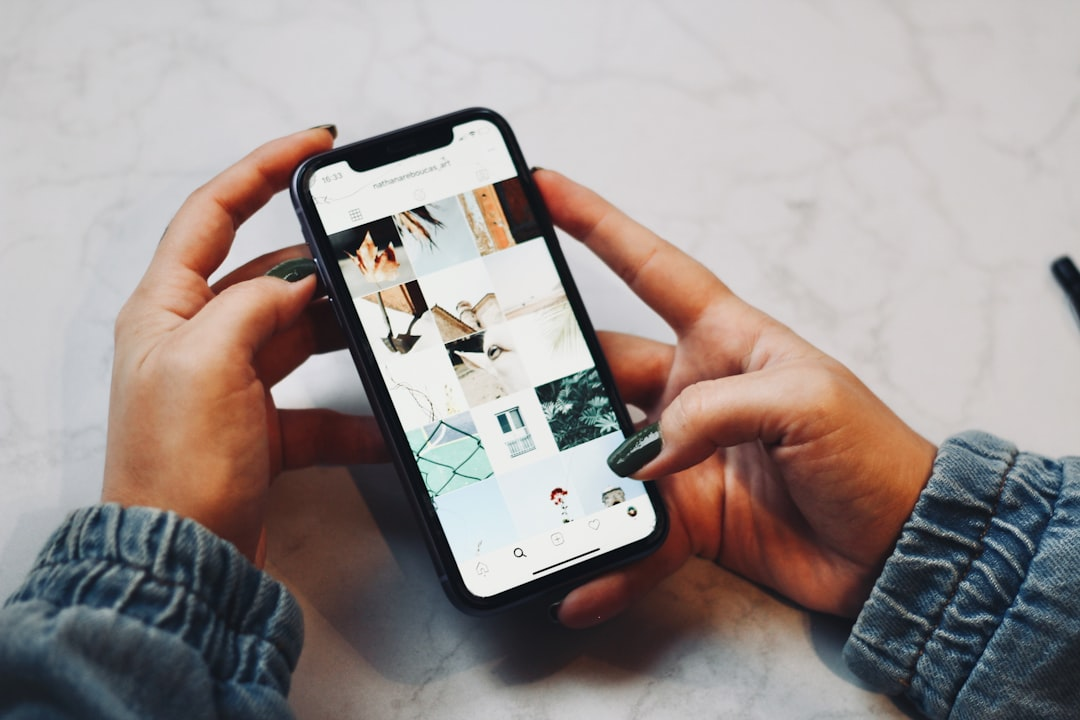phone: (288, 104, 668, 610)
